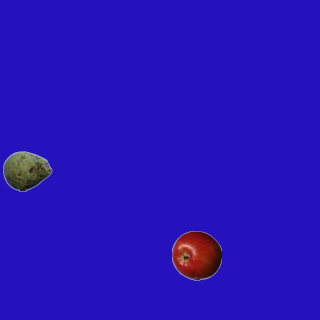Apple Braeburn: (171, 230, 221, 280)
Pear Stone: (2, 146, 52, 196)
